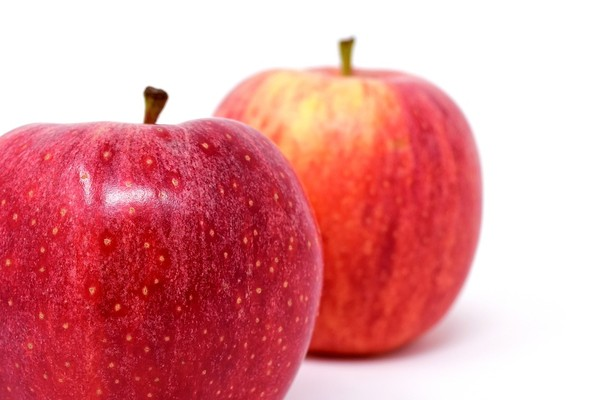apple: (1, 118, 316, 400), (210, 65, 483, 364)
